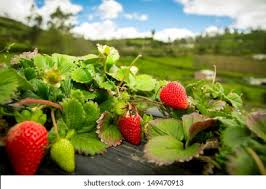ripe: (4, 122, 50, 175), (115, 108, 146, 147), (158, 79, 190, 113)
unripe: (51, 140, 78, 175)
